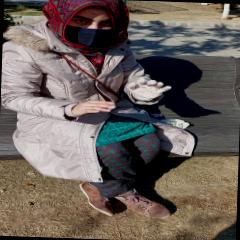gloved: (125, 76, 172, 102)
not-gloved: (73, 100, 114, 117)
